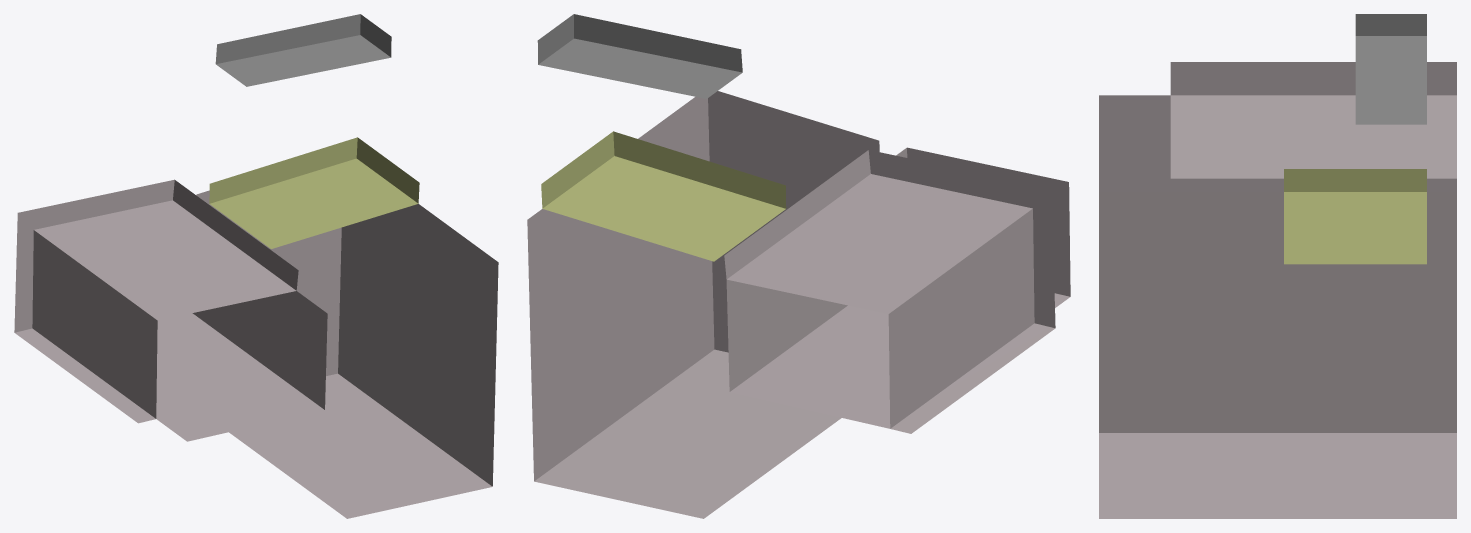
The picture shows the model from 3 angles, left to right: view 1: azimuth 30°, elevation 25°; view 2: azimuth 150°, elevation 25°; view 3: azimuth 270°, elevation 25°; orthographic projection. The views are drawn at different scales.
Parts seen in each view (by area): view 1: 0_2_1_3_0_0_3_2_1_2; view 2: 0_2_1_3_0_0_3_2_1_2; view 3: 0_2_1_3_0_0_3_2_1_2.
Boxes of the visible parts, <box> form: 0_2_1_3_0_0_3_2_1_2: <box>14,14,498,518</box>; 0_2_1_3_0_0_3_2_1_2: <box>527,14,1070,518</box>; 0_2_1_3_0_0_3_2_1_2: <box>1099,14,1456,518</box>.
Size of the model in its own units: 18.64 by 19.86 by 15.
